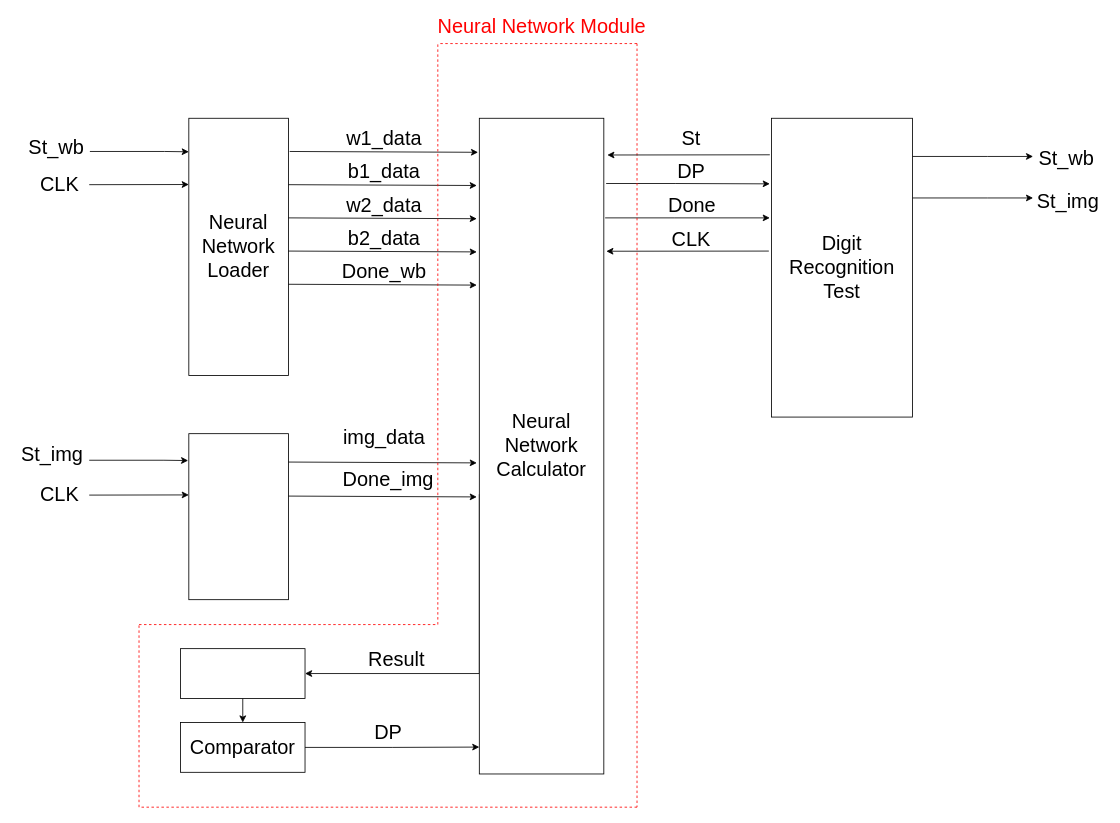
The diagram is 1120 pixels wide and 823 high, and some of its shapes have lost their labels. Each missing label, with the centre of its shape:
Image Loader: [238,516]
Register: [242,673]
